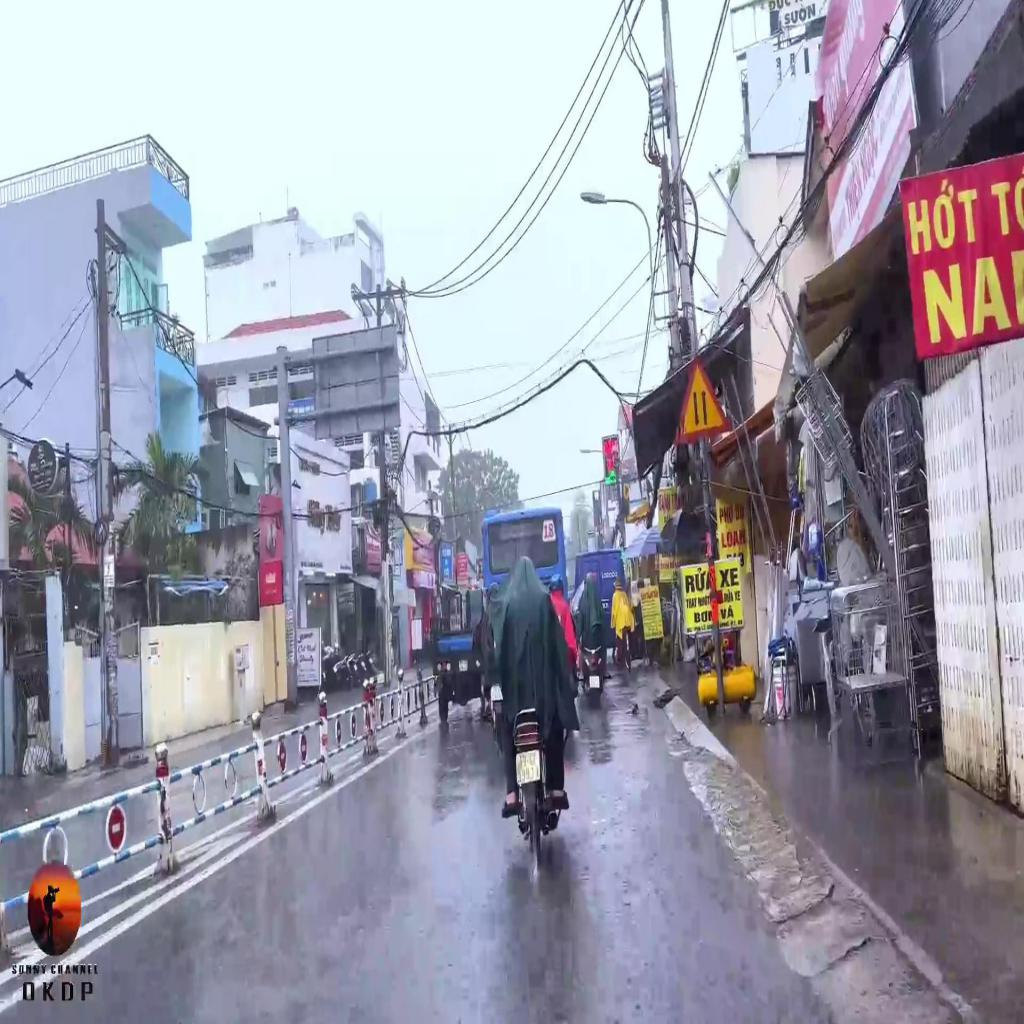khac: (673, 354, 730, 446)
